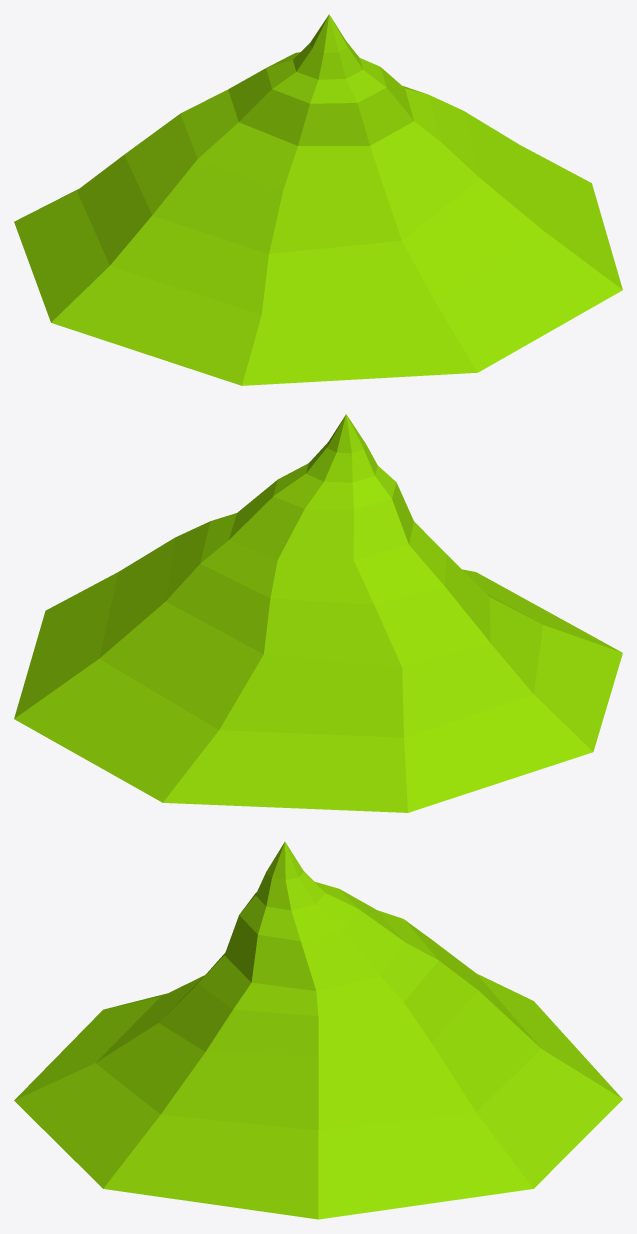
Rendered from Mountain1_A.fbx.
3 views of the same model, one above another, from view 1: azimuth 30°, elevation 25°; view 2: azimuth 150°, elevation 25°; view 3: azimuth 270°, elevation 25° (orthographic). The views are drawn at different scales.
Visible parts, largest first — view 1: Cylinder.001; view 2: Cylinder.001; view 3: Cylinder.001.
Boxes of the visible parts, x1,y1,x2,y2 form: Cylinder.001: (14,14,622,385); Cylinder.001: (14,414,622,812); Cylinder.001: (14,842,622,1219).
Size of the model in its own units: 10241 by 4701 by 10205.
